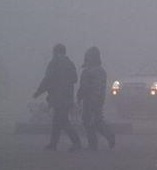person: (31, 42, 83, 151), (75, 46, 119, 150)
